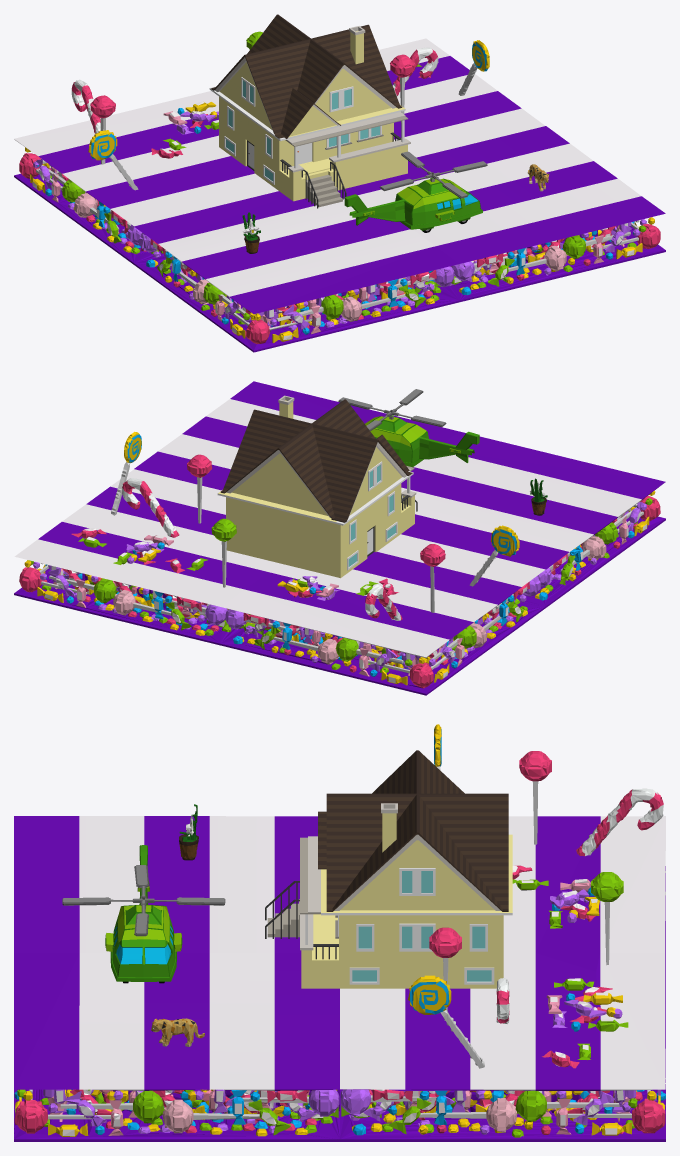
The picture shows the model from 3 angles, top to bottom: view 1: azimuth 30°, elevation 25°; view 2: azimuth 150°, elevation 25°; view 3: azimuth 270°, elevation 25°; orthographic projection. The views are drawn at different scales.
Visible parts, largest first — view 1: TERRAIN_CANDY, Cube.1555, VEHICLES_HELICOPTER, OBJRANDOM_MONJA BLANCA; view 2: TERRAIN_CANDY, Cube.1555, VEHICLES_HELICOPTER; view 3: TERRAIN_CANDY, Cube.1555, VEHICLES_HELICOPTER, ANIMAL_JAGUAR, OBJRANDOM_MONJA BLANCA.
Part boxes in pixels (left/top/right/bottom): TERRAIN_CANDY: left=14, top=31, right=665, bottom=352; Cube.1555: left=209, top=14, right=410, bottom=208; VEHICLES_HELICOPTER: left=344, top=151, right=487, bottom=232; OBJRANDOM_MONJA BLANCA: left=242, top=212, right=260, bottom=253; TERRAIN_CANDY: left=14, top=381, right=665, bottom=695; Cube.1555: left=217, top=395, right=417, bottom=578; VEHICLES_HELICOPTER: left=338, top=389, right=479, bottom=467; TERRAIN_CANDY: left=14, top=724, right=665, bottom=1141; Cube.1555: left=265, top=750, right=512, bottom=988; VEHICLES_HELICOPTER: left=62, top=845, right=225, bottom=983; ANIMAL_JAGUAR: left=151, top=1018, right=204, bottom=1046; OBJRANDOM_MONJA BLANCA: left=179, top=804, right=198, bottom=860.
Bounding box in the file's own units: 4059 × 1582 × 4000.
34 materials, 2 textured.
